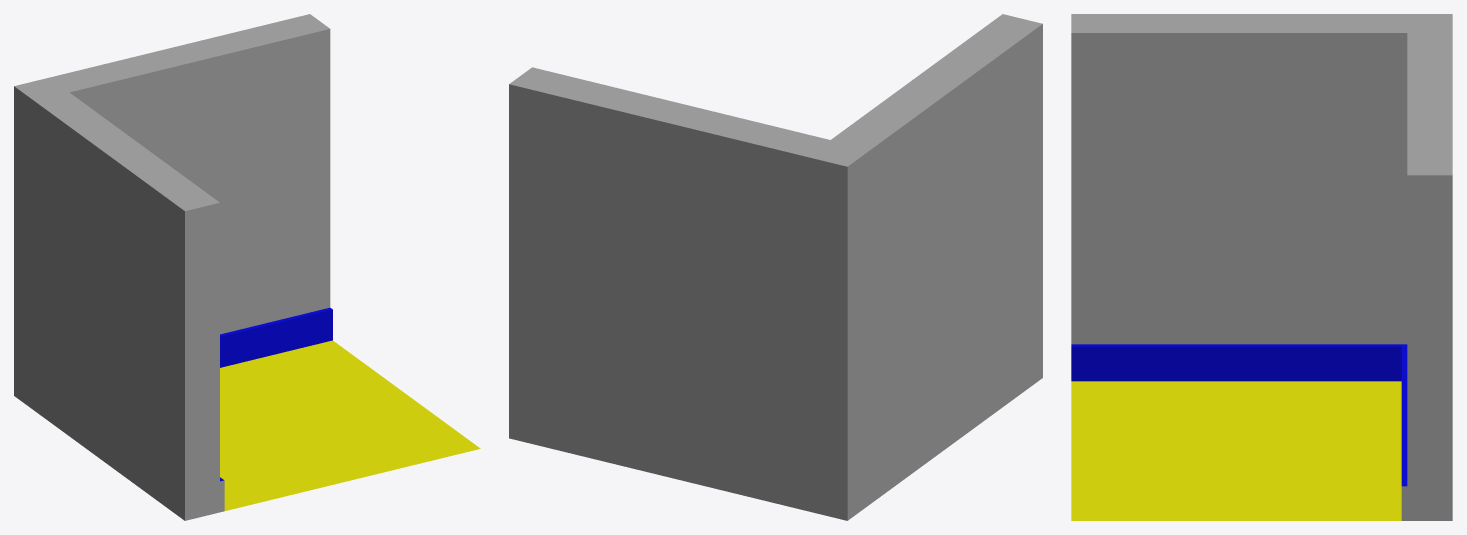
Rendered from corner.fbx.
3 views of the same model, side by side, from view 1: azimuth 30°, elevation 25°; view 2: azimuth 150°, elevation 25°; view 3: azimuth 270°, elevation 25° (orthographic). The views are drawn at different scales.
Visible parts, largest first — view 1: corner_MESH; view 2: corner_MESH; view 3: corner_MESH.
Boxes of the visible parts, bbox=[...] form: corner_MESH: bbox=[14, 14, 480, 520]; corner_MESH: bbox=[509, 14, 1042, 520]; corner_MESH: bbox=[1071, 14, 1452, 520].
Size of the model in its own units: 200 by 200 by 200.
